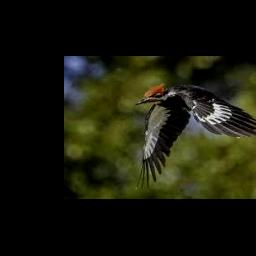Woodpecker: (135, 82, 256, 190)
